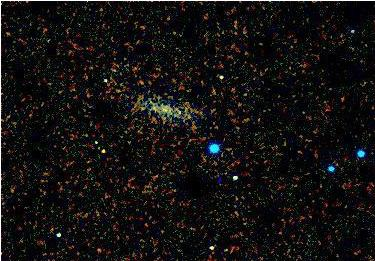star: (88, 135, 118, 165)
